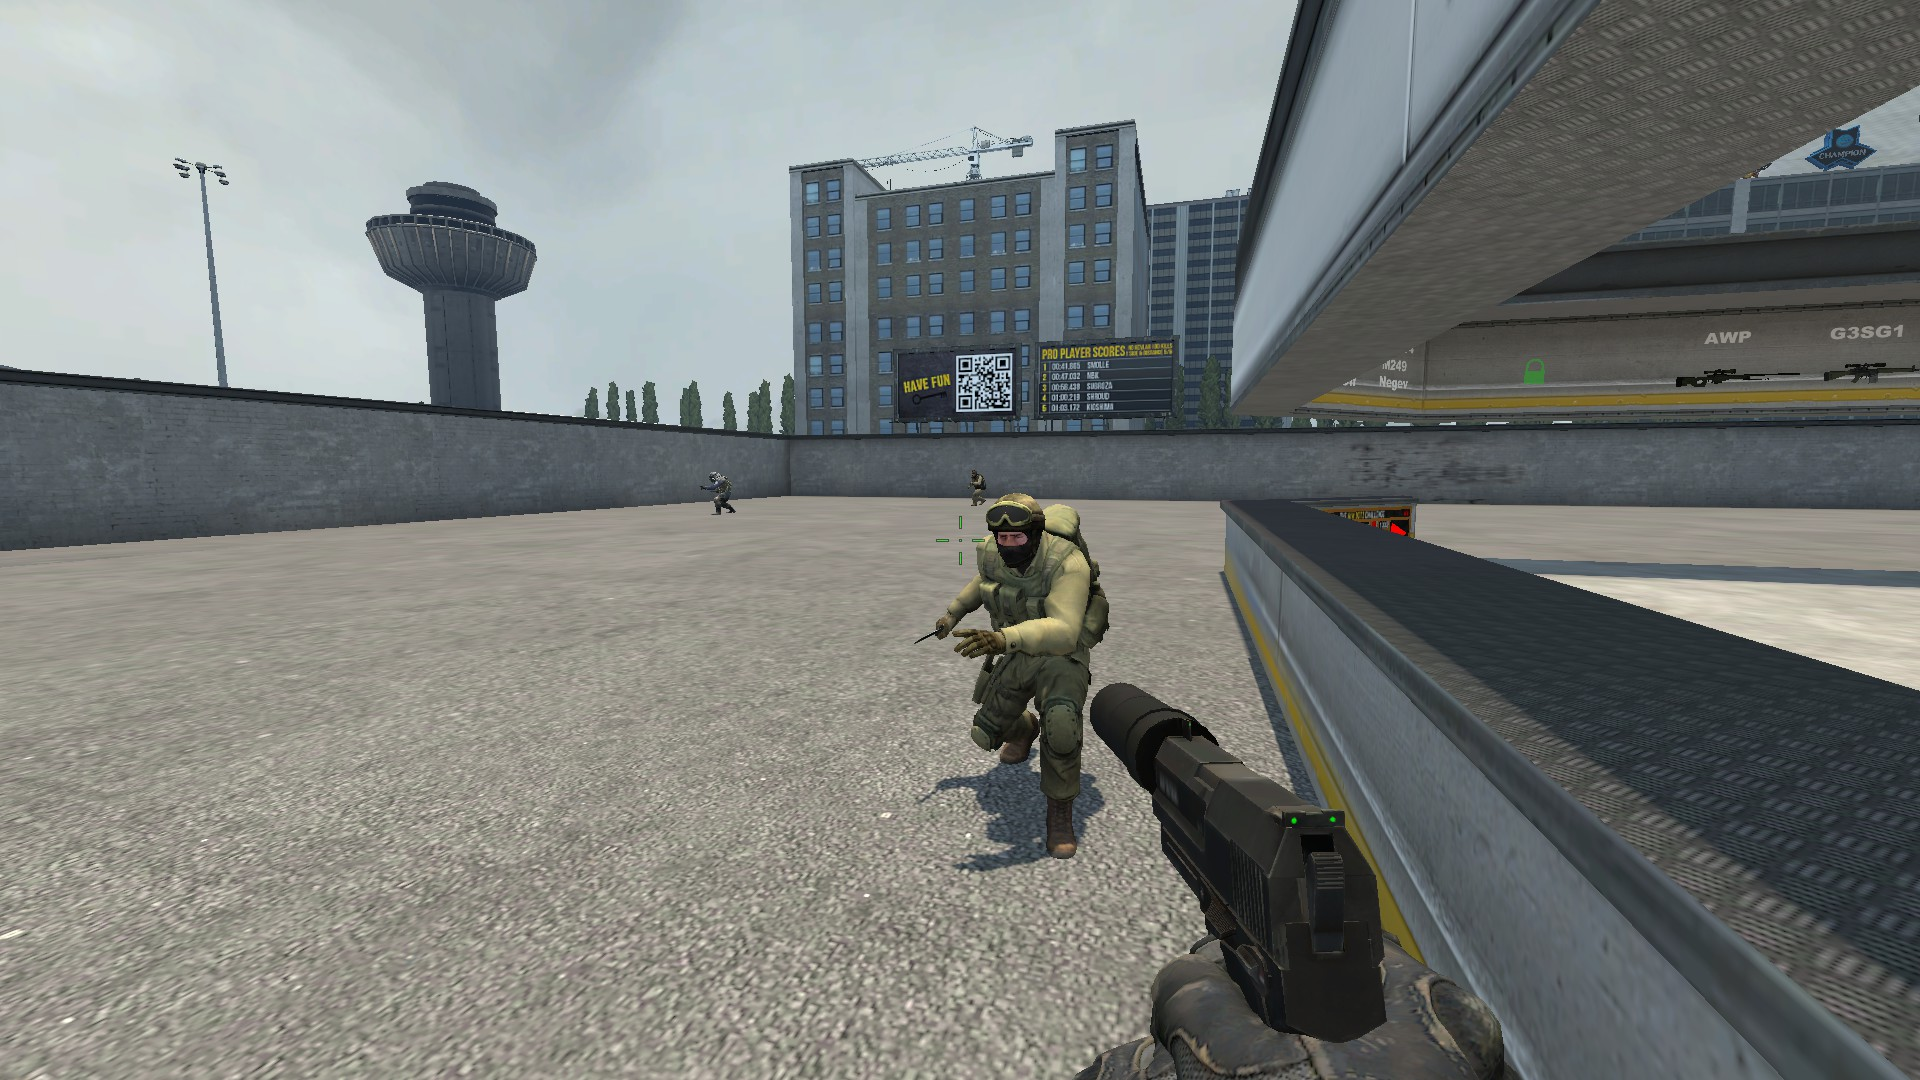ct: (928, 489, 1117, 862)
ct head: (978, 493, 1048, 578)
